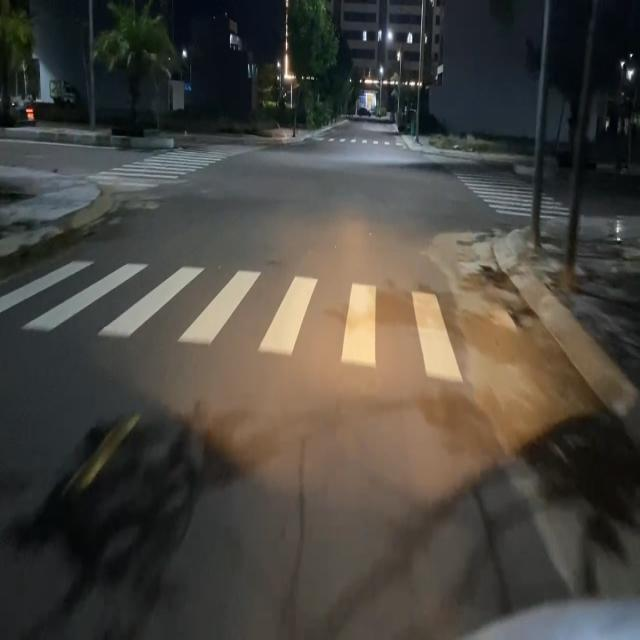walk-crossing: (0, 255, 462, 383)
